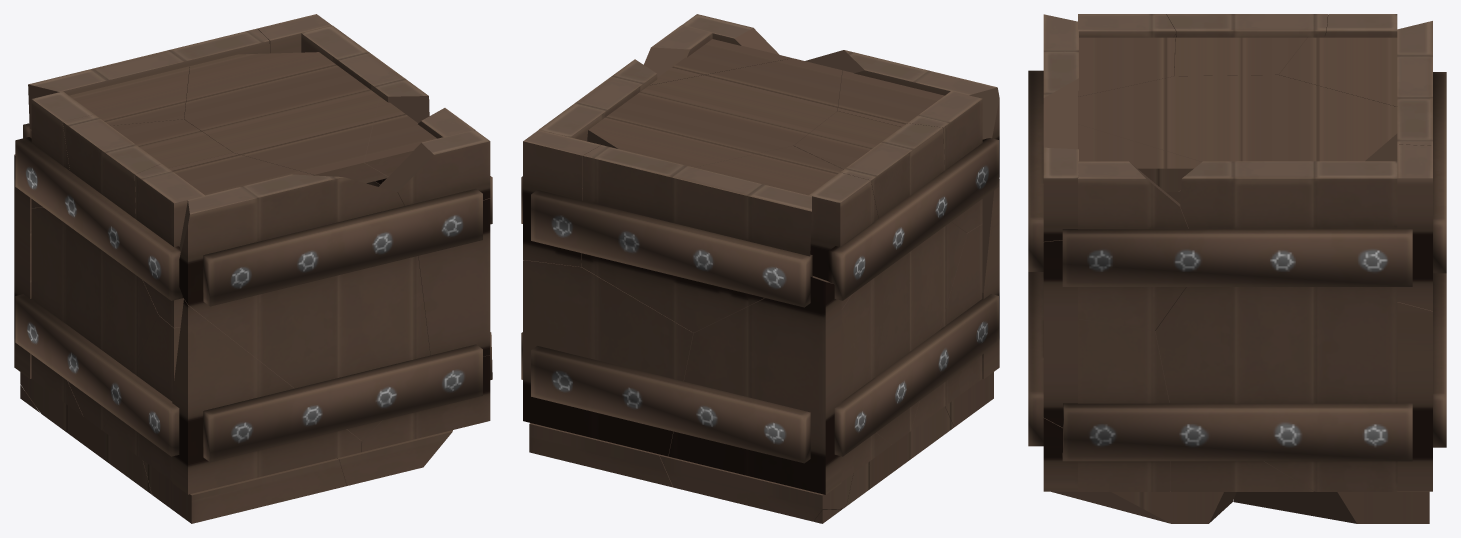
The model's file is crate_shards.fbx.
The picture shows the model from 3 angles, left to right: view 1: azimuth 30°, elevation 25°; view 2: azimuth 150°, elevation 25°; view 3: azimuth 270°, elevation 25°; orthographic projection. The views are drawn at different scales.
Parts seen in each view (by area): view 1: Cube.009_cell.005, Cube.008_cell.003, crate_low.009, crate_low.012, Cube.009_cell, Cube.007_cell.005, crate_low.016, crate_low.013, Cube.009_cell.006, Cube.010_cell.001, Cube.009_cell.007, Cube.007_cell.006 (+17 smaller); view 2: Cube.011_cell.003, Cube.011_cell.002, Cube.008_cell.003, Cube.011_cell.001, crate_low.010, crate_low.011, Cube.007_cell.005, crate_low.016, crate_low.013, Cube.010_cell.007, Cube.007_cell.006, Cube.011_cell (+16 smaller); view 3: Cube.006_cell.002, Cube.008_cell.003, crate_low.015, crate_low.014, Cube.006_cell.006, Cube.006_cell.004, Cube.006_cell.003, Cube.008_cell.002, Cube.011_cell.001, Cube.009_cell.006, Cube.010_cell.006, Cube.011_cell (+16 smaller).
Part boxes in pixels (box(x1,y1,x2,y2)): Cube.009_cell.005: box(179, 174, 430, 440); Cube.008_cell.003: box(184, 52, 388, 183); crate_low.009: box(203, 344, 482, 462); crate_low.012: box(203, 188, 482, 306); Cube.009_cell: box(172, 299, 361, 494); Cube.007_cell.005: box(31, 207, 158, 430); crate_low.016: box(15, 137, 183, 300); crate_low.013: box(15, 294, 179, 456); Cube.009_cell.006: box(418, 198, 490, 356); Cube.010_cell.001: box(143, 458, 346, 523); Cube.009_cell.007: box(379, 130, 490, 205); Cube.007_cell.006: box(62, 114, 161, 218); Cube.011_cell.003: box(668, 276, 841, 494); Cube.011_cell.002: box(581, 145, 811, 332); Cube.008_cell.003: box(587, 58, 842, 167); Cube.011_cell.001: box(523, 260, 696, 456); crate_low.010: box(531, 190, 812, 307); crate_low.011: box(531, 346, 810, 463); Cube.007_cell.005: box(841, 222, 967, 444); crate_low.016: box(828, 138, 998, 300); crate_low.013: box(834, 294, 998, 456); Cube.010_cell.007: box(660, 455, 853, 521); Cube.007_cell.006: box(840, 123, 944, 218); Cube.011_cell: box(523, 129, 600, 266); Cube.006_cell.002: box(1155, 287, 1397, 491); Cube.008_cell.003: box(1078, 75, 1397, 192); crate_low.015: box(1062, 403, 1412, 461); crate_low.014: box(1062, 229, 1412, 286); Cube.006_cell.006: box(1180, 161, 1397, 229); Cube.006_cell.004: box(1078, 161, 1188, 330); Cube.006_cell.003: box(1078, 319, 1170, 491); Cube.008_cell.002: box(1279, 37, 1397, 106); Cube.011_cell.001: box(1397, 302, 1432, 491); Cube.009_cell.006: box(1043, 240, 1078, 427); Cube.010_cell.006: box(1233, 491, 1429, 523); Cube.011_cell: box(1397, 144, 1432, 310).
Size of the model in its own units: 213 by 197 by 215.
1 material, 1 textured.
